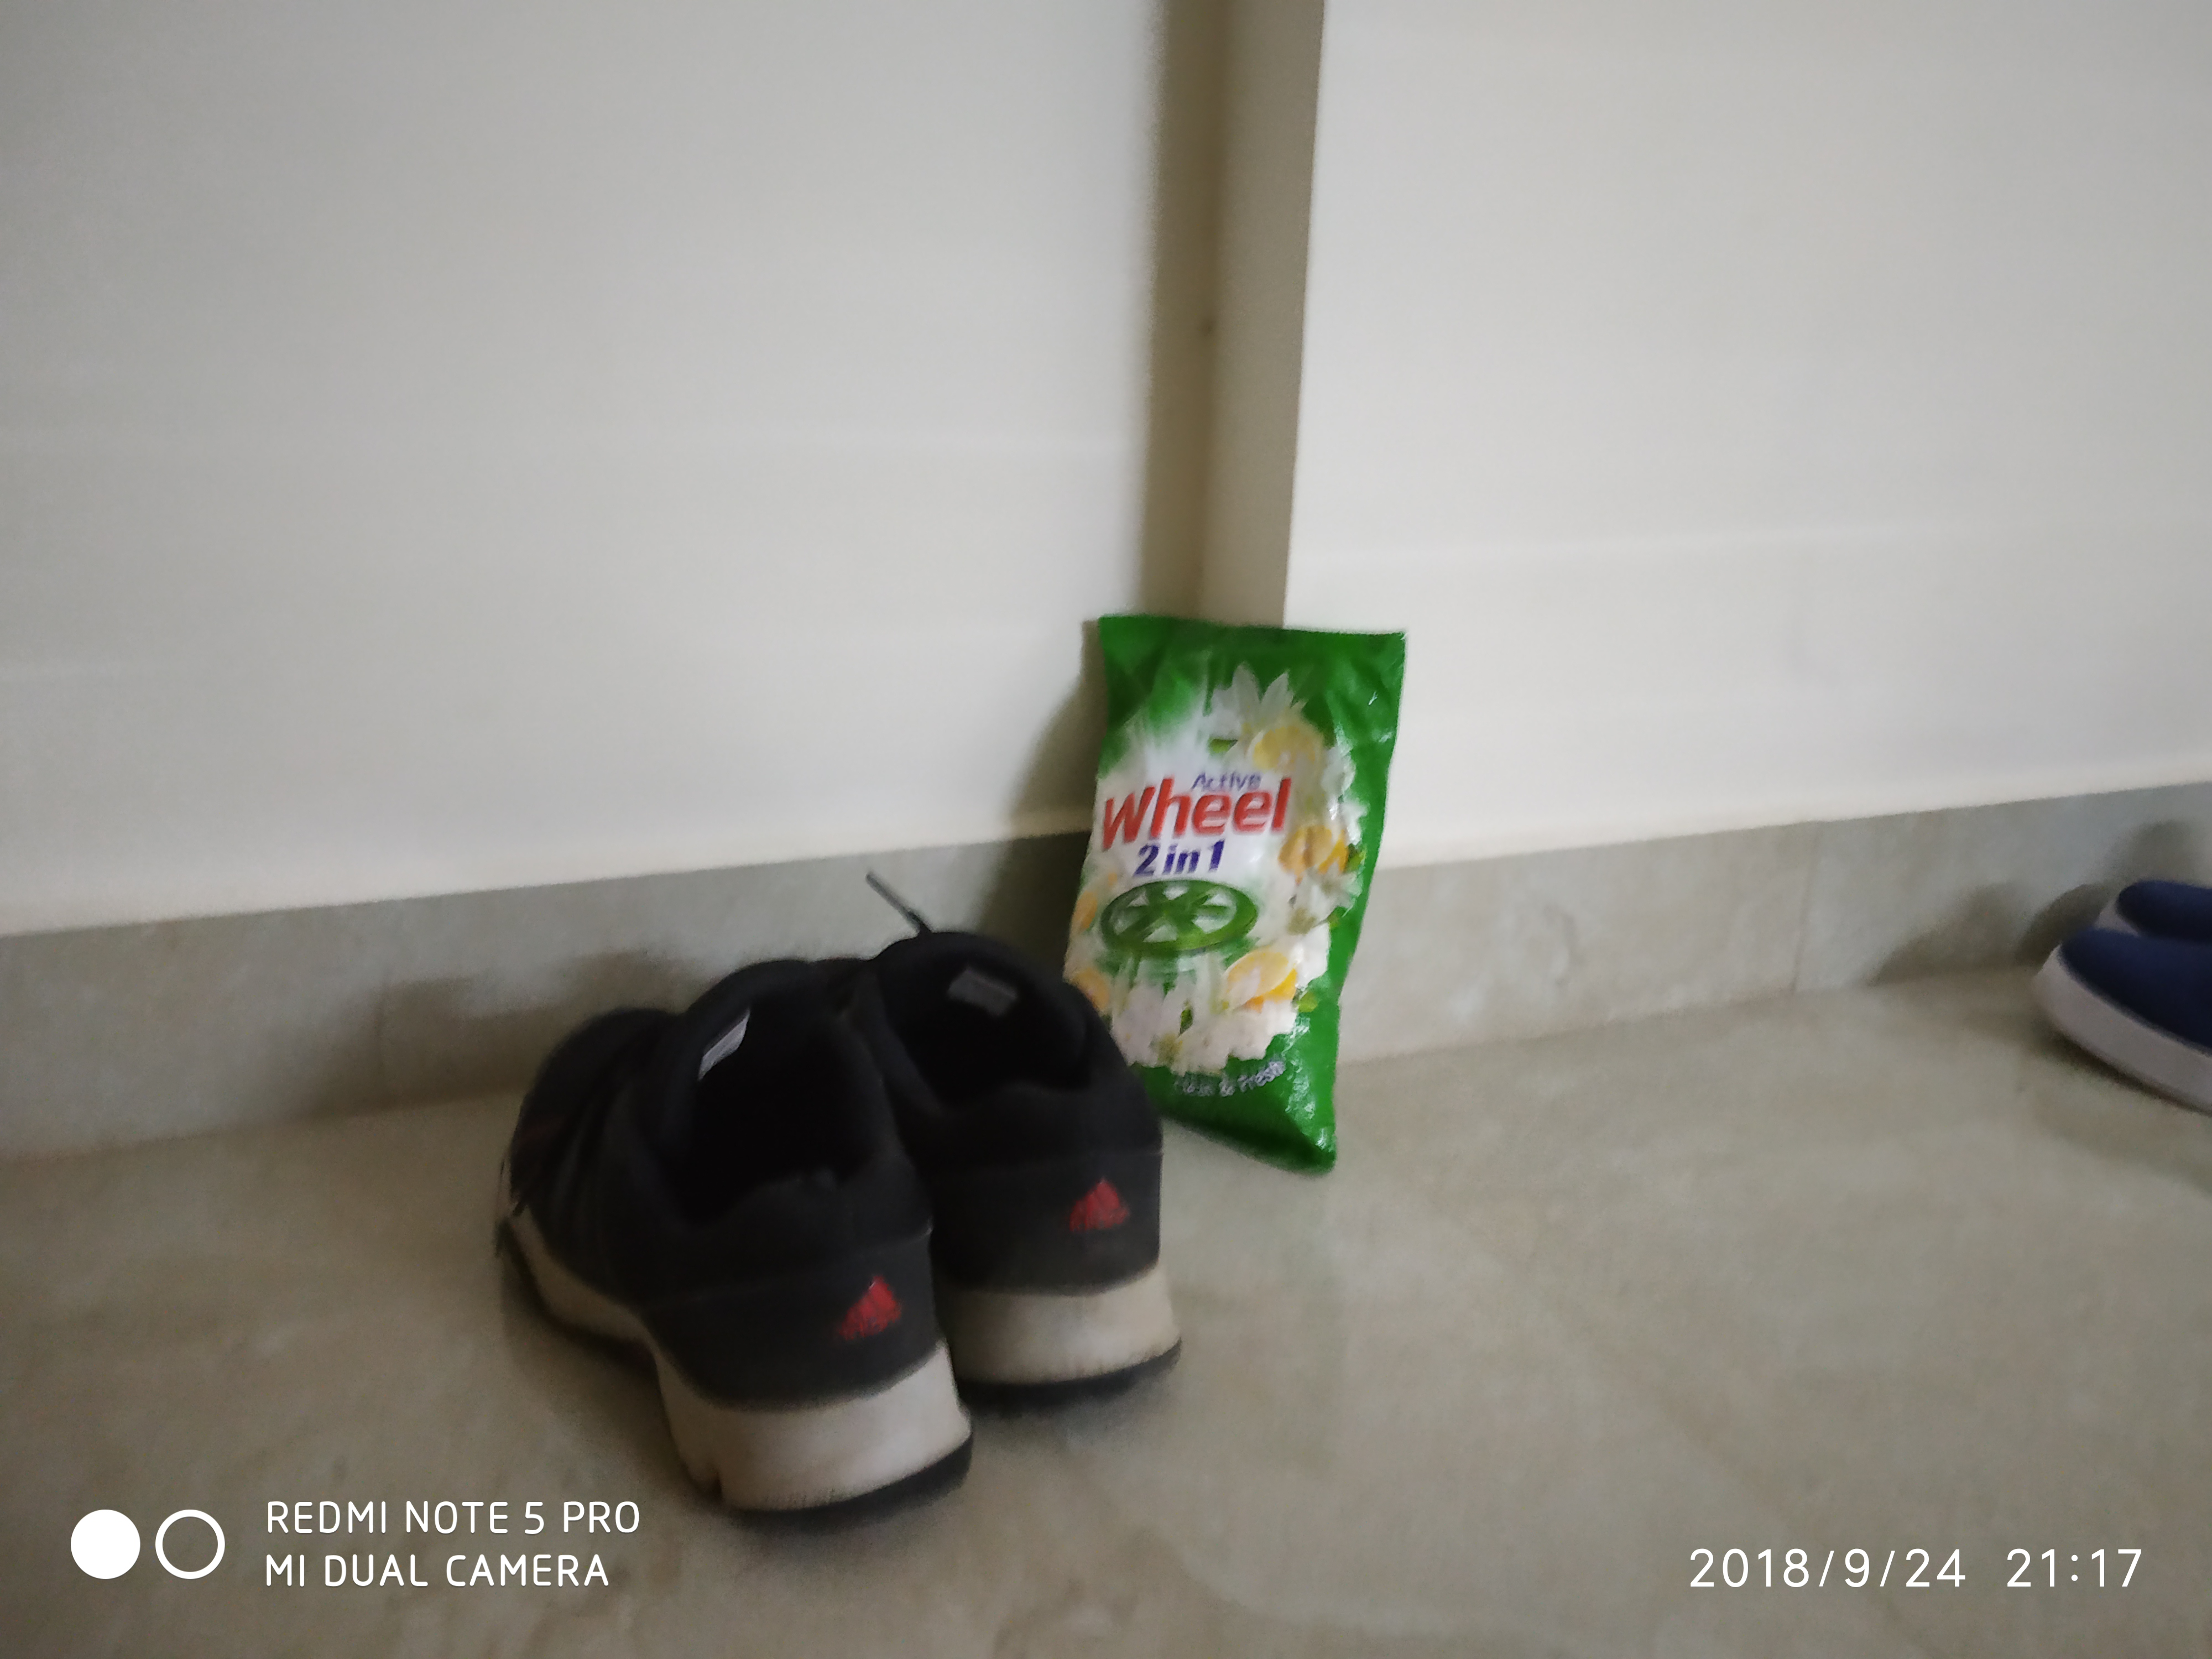detergent: (1068, 603, 1416, 1074)
